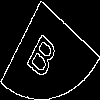B: (25, 25, 63, 81)
